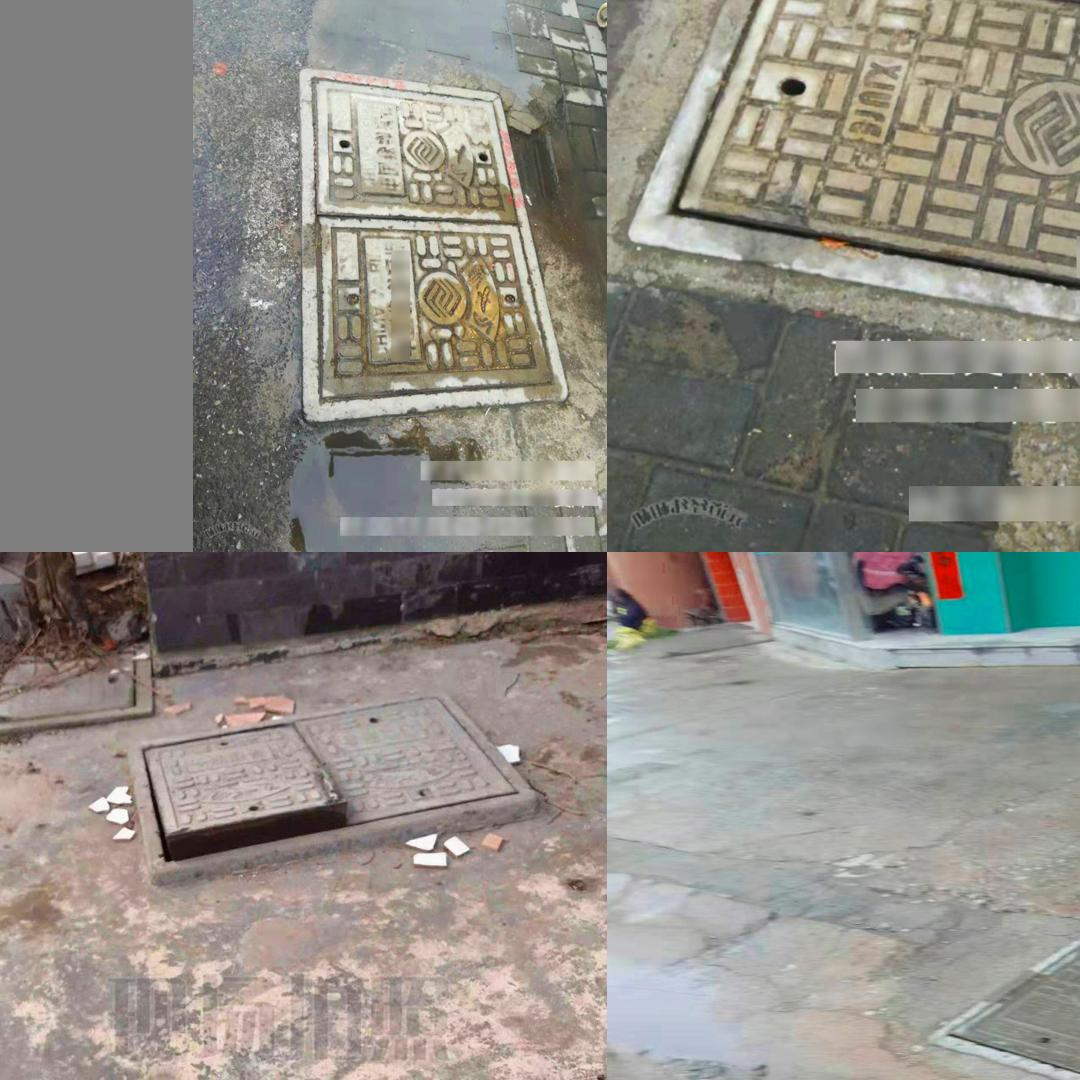good: (621, 0, 1080, 419), (298, 67, 569, 424), (926, 931, 1080, 1080), (0, 639, 154, 731)
uncovered: (127, 693, 539, 883)
